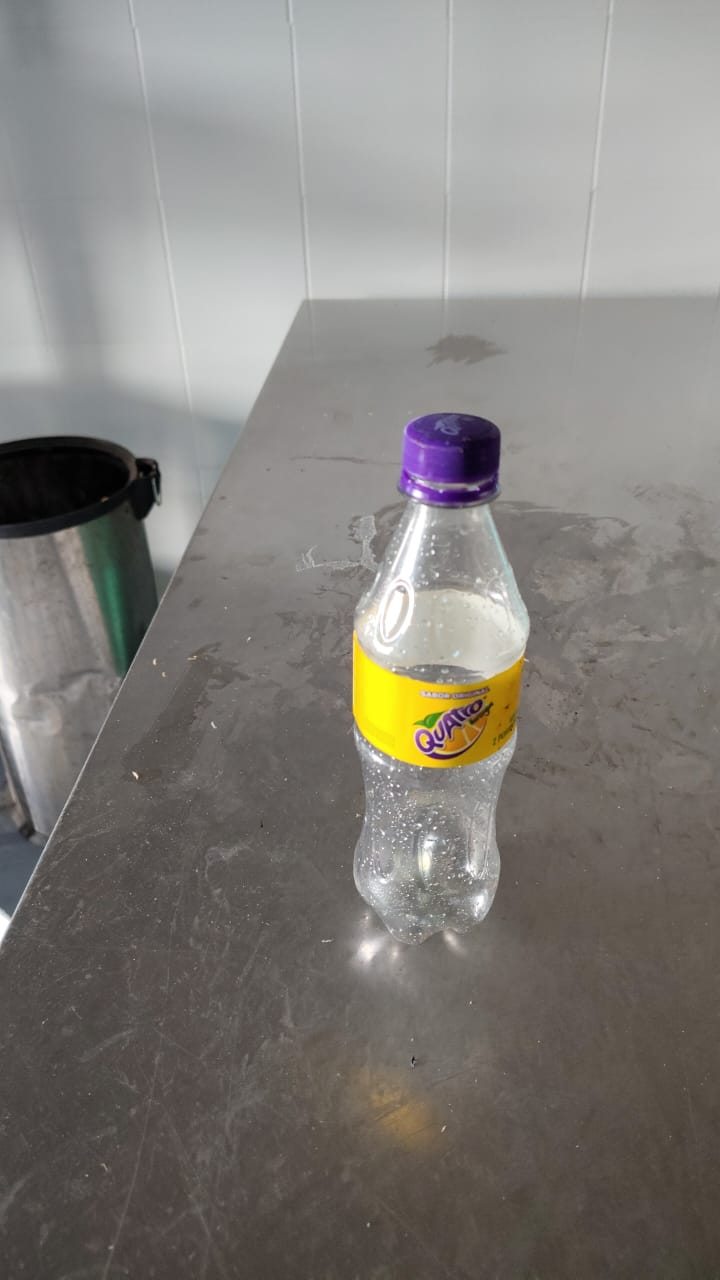Plastico: (350, 411, 530, 941)
